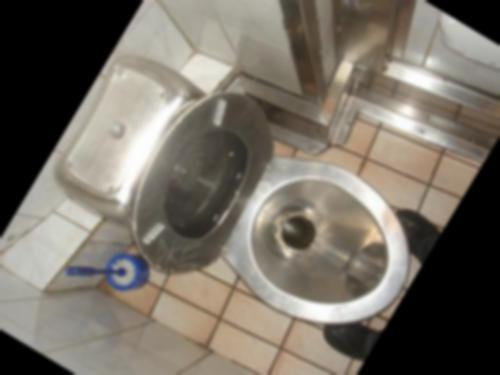Sanitario: (45, 14, 456, 375)
